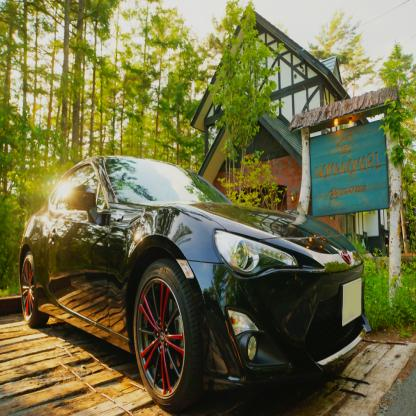Car: (19, 157, 372, 414)
